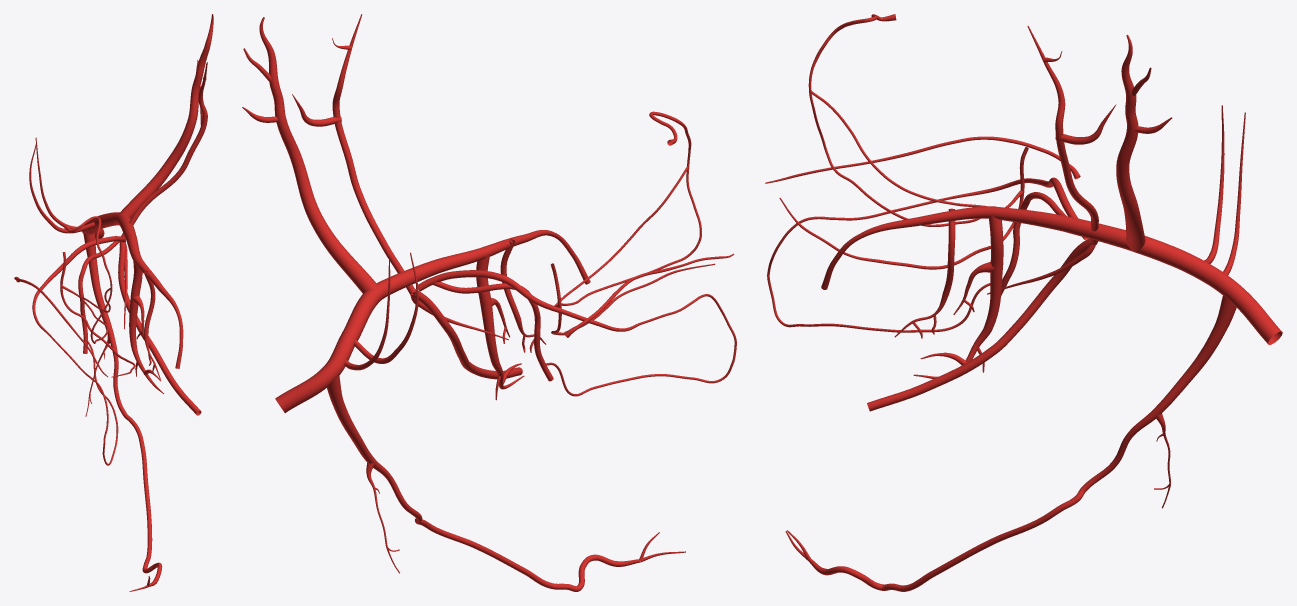
Rendered from circulatorio-maxillary-artery-l.glb.
The picture shows the model from 3 angles, left to right: view 1: azimuth 30°, elevation 25°; view 2: azimuth 150°, elevation 25°; view 3: azimuth 270°, elevation 25°; orthographic projection. The views are drawn at different scales.
Visible parts, largest first — view 1: Maxillary artery.l, Inferior alveolar artery.l, Posterior deep temporal artery.l, Posterior lateral nasal branches of sphenopalatine artery..l, Buccal artery.l, Anterior deep temporal artery.l, Infra-orbital artery.l, Descending palatine artery.l, Posterior septal branches of sphenopalatine artery.l, Artery of pterygoid canal.l, Accessory branch of middle meningeal artery.l, ?x.l (+2 smaller); view 2: Maxillary artery.l, Posterior deep temporal artery.l, Inferior alveolar artery.l, Posterior lateral nasal branches of sphenopalatine artery..l, Anterior deep temporal artery.l, Buccal artery.l, Artery of pterygoid canal.l, Descending palatine artery.l, Infra-orbital artery.l, Posterior septal branches of sphenopalatine artery.l, ?x.l, Accessory branch of middle meningeal artery.l; view 3: Maxillary artery.l, Inferior alveolar artery.l, Posterior lateral nasal branches of sphenopalatine artery..l, Posterior deep temporal artery.l, Buccal artery.l, Anterior deep temporal artery.l, Infra-orbital artery.l, Posterior septal branches of sphenopalatine artery.l, ?x.l, Descending palatine artery.l, Accessory branch of middle meningeal artery.l, Greater palatine artery.l (+1 smaller).
Boxes of the visible parts, x1,y1,x2,y2 form: Maxillary artery.l: [82, 212, 163, 393]; Inferior alveolar artery.l: [83, 232, 162, 586]; Posterior deep temporal artery.l: [119, 14, 213, 218]; Posterior lateral nasal branches of sphenopalatine artery..l: [60, 216, 135, 377]; Buccal artery.l: [118, 241, 201, 415]; Anterior deep temporal artery.l: [121, 62, 207, 237]; Infra-orbital artery.l: [133, 255, 183, 368]; Descending palatine artery.l: [78, 241, 120, 353]; Posterior septal branches of sphenopalatine artery.l: [32, 282, 108, 465]; Artery of pterygoid canal.l: [44, 236, 125, 284]; Accessory branch of middle meningeal artery.l: [29, 144, 95, 233]; ?x.l: [14, 276, 107, 377]; Maxillary artery.l: [275, 239, 546, 412]; Posterior deep temporal artery.l: [242, 17, 378, 293]; Inferior alveolar artery.l: [327, 376, 640, 591]; Posterior lateral nasal branches of sphenopalatine artery..l: [550, 111, 715, 335]; Anterior deep temporal artery.l: [292, 14, 415, 294]; Buccal artery.l: [410, 289, 522, 379]; Artery of pterygoid canal.l: [418, 270, 568, 315]; Descending palatine artery.l: [432, 282, 553, 381]; Infra-orbital artery.l: [483, 230, 590, 284]; Posterior septal branches of sphenopalatine artery.l: [567, 294, 736, 381]; ?x.l: [564, 253, 734, 337]; Accessory branch of middle meningeal artery.l: [354, 252, 418, 363]; Maxillary artery.l: [894, 206, 1282, 378]; Inferior alveolar artery.l: [808, 295, 1236, 591]; Posterior lateral nasal branches of sphenopalatine artery..l: [779, 14, 1028, 269]; Posterior deep temporal artery.l: [1116, 35, 1172, 251]; Buccal artery.l: [867, 238, 1097, 411]; Anterior deep temporal artery.l: [1027, 26, 1116, 243]; Infra-orbital artery.l: [821, 206, 995, 289]; Posterior septal branches of sphenopalatine artery.l: [767, 178, 1036, 321]; ?x.l: [765, 136, 1080, 183]; Descending palatine artery.l: [1001, 192, 1066, 295]; Accessory branch of middle meningeal artery.l: [1204, 105, 1224, 263]; Greater palatine artery.l: [779, 280, 1002, 332].
Bounding box in the file's own units: 0.062 × 0.1129 × 0.0799.
